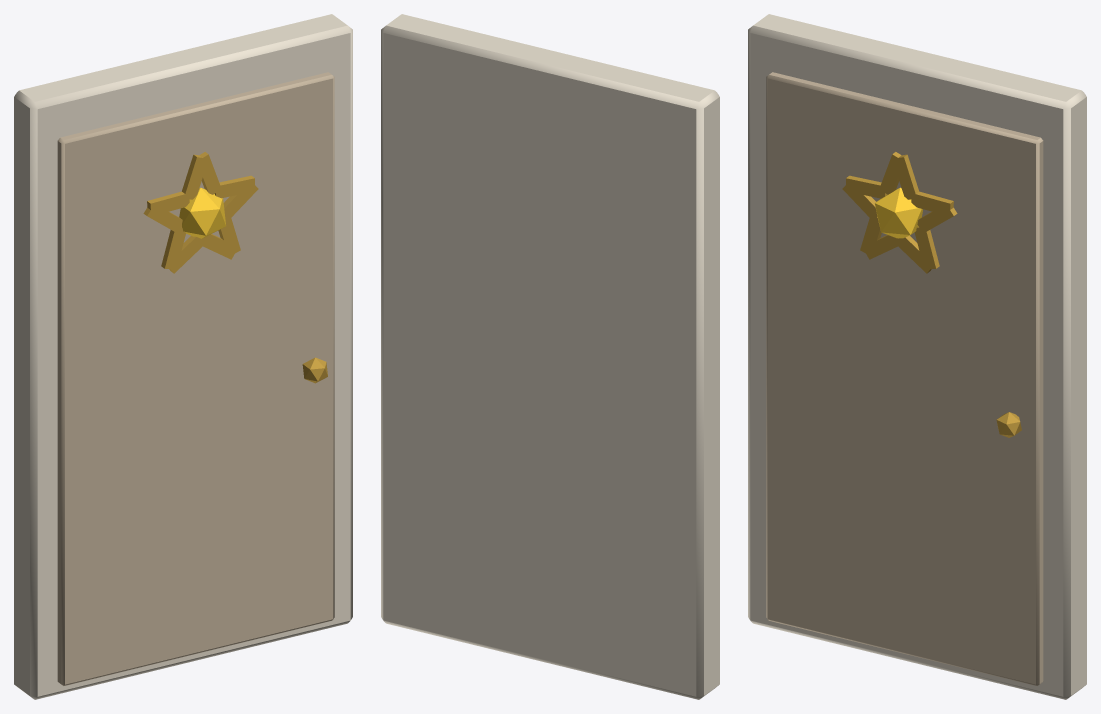
Rendered from star_dressing_door.glb.
The picture shows the model from 3 angles, left to right: view 1: azimuth 30°, elevation 25°; view 2: azimuth 150°, elevation 25°; view 3: azimuth 330°, elevation 25°; orthographic projection.
Parts seen in each view (by area): view 1: star_dressing_door; view 2: star_dressing_door; view 3: star_dressing_door.
Boxes of the visible parts, x1,y1,x2,y2 form: star_dressing_door: (14, 14, 352, 699); star_dressing_door: (381, 14, 719, 699); star_dressing_door: (748, 14, 1086, 699).
Bounding box in the file's own units: 1.3 × 2.3 × 0.2801.
